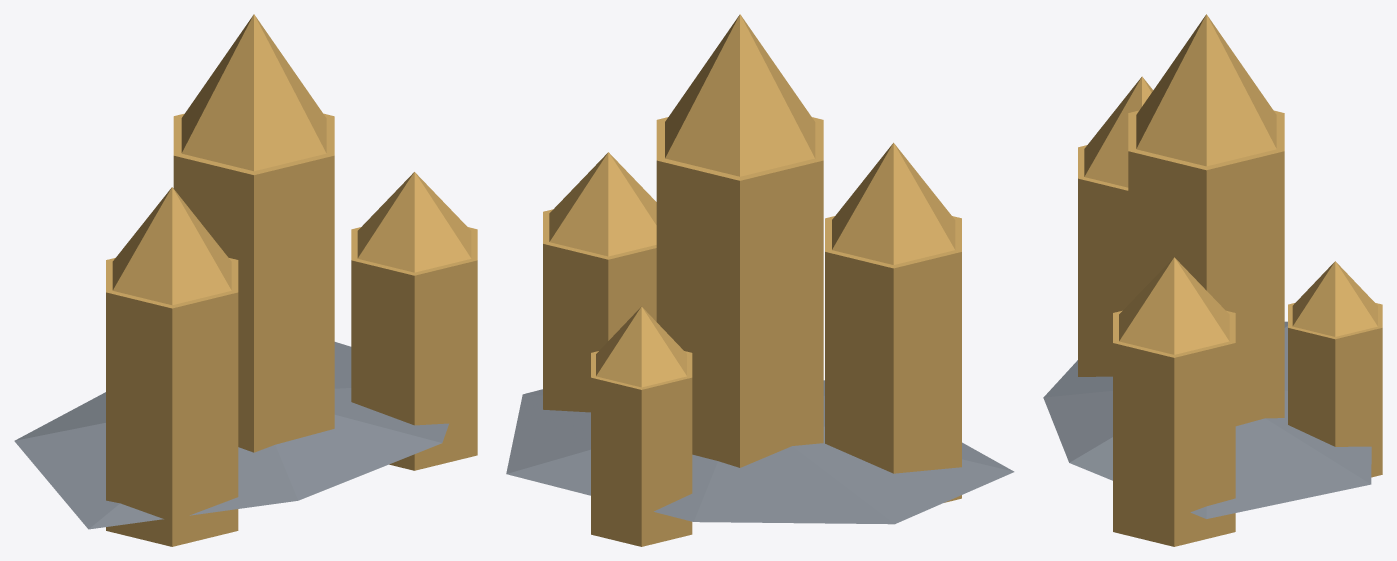
File: cave_crystals_amber.glb
The picture shows the model from 3 angles, left to right: view 1: azimuth 30°, elevation 25°; view 2: azimuth 150°, elevation 25°; view 3: azimuth 270°, elevation 25°; orthographic projection. The views are drawn at different scales.
Parts seen in each view (by area): view 1: cave_crystals_amber_Mesh; view 2: cave_crystals_amber_Mesh; view 3: cave_crystals_amber_Mesh.
Boxes of the visible parts, x1,y1,x2,y2 form: cave_crystals_amber_Mesh: (14, 14, 477, 546); cave_crystals_amber_Mesh: (506, 14, 1014, 546); cave_crystals_amber_Mesh: (1043, 14, 1382, 546).
Bounding box in the file's own units: 1.48 × 1.5 × 1.05.
